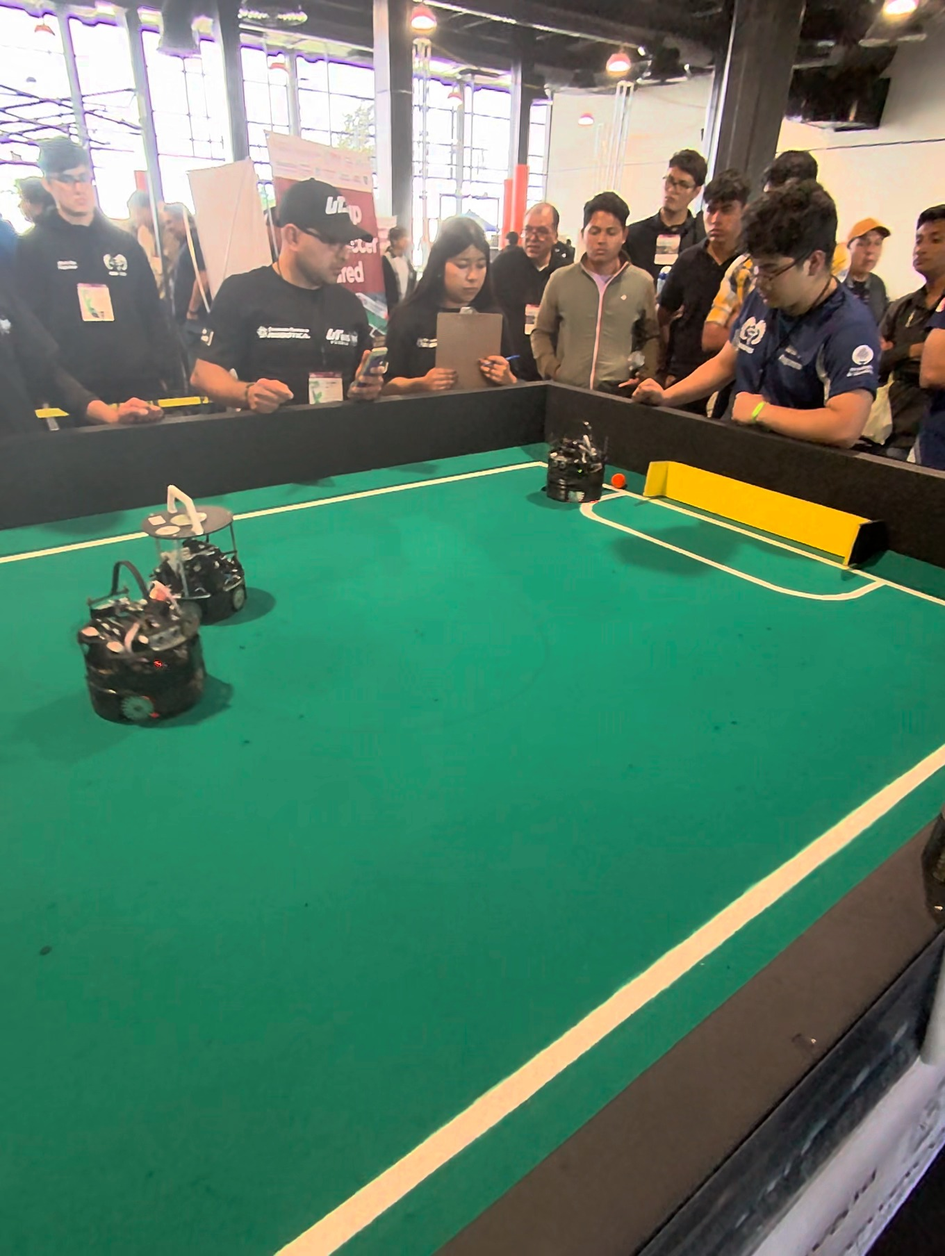Robot: (71, 561, 205, 738), (141, 487, 253, 624), (542, 420, 609, 514)
pelota: (612, 471, 629, 492)
